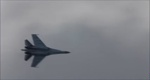maybay_muctieu: (22, 33, 71, 67)
